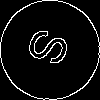S: (25, 25, 80, 73)
